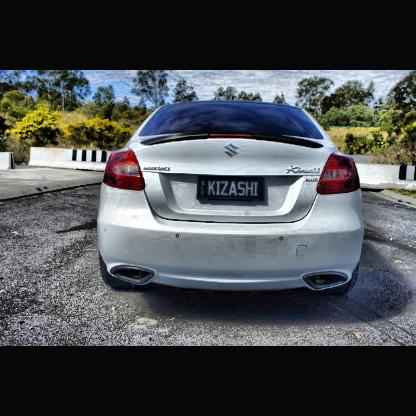Suzuki Kizashi Sedan 2012: (100, 101, 365, 296)
